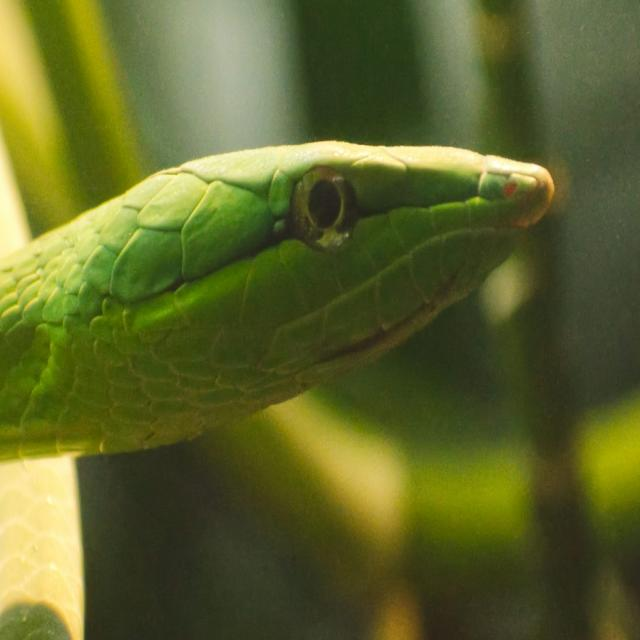snake: (0, 132, 556, 640)
